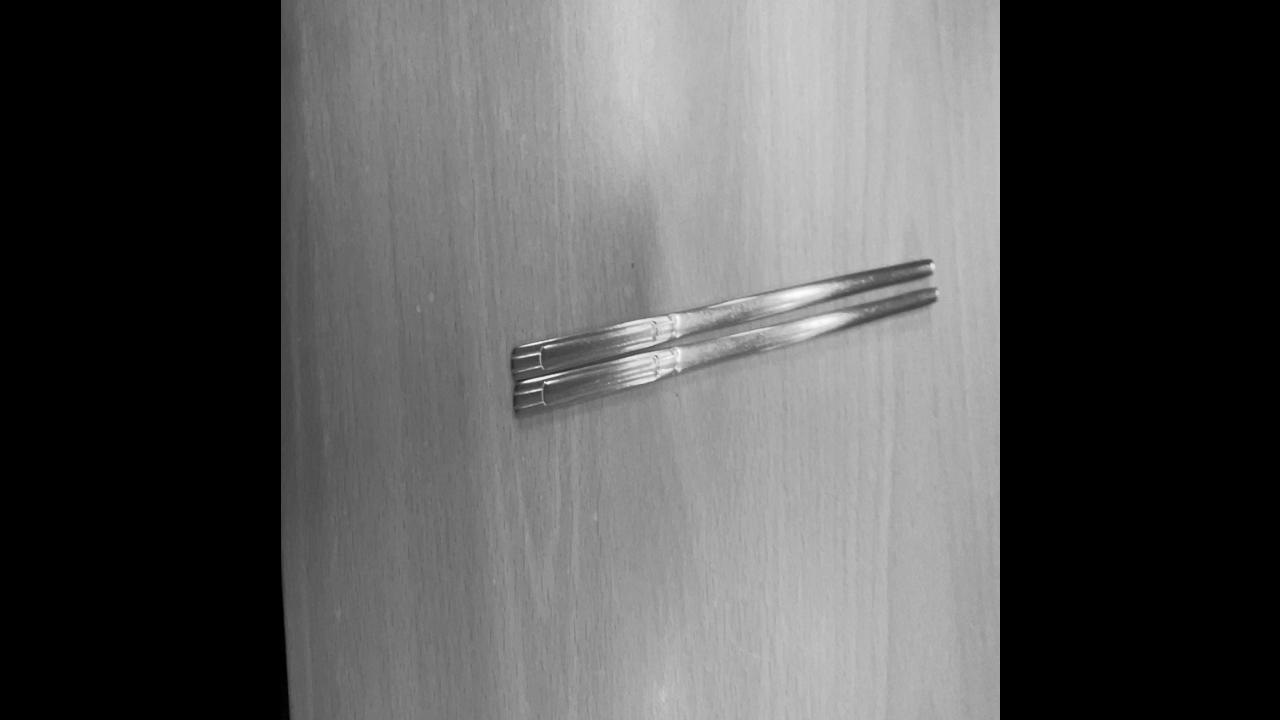chopstick: (503, 245, 941, 423)
